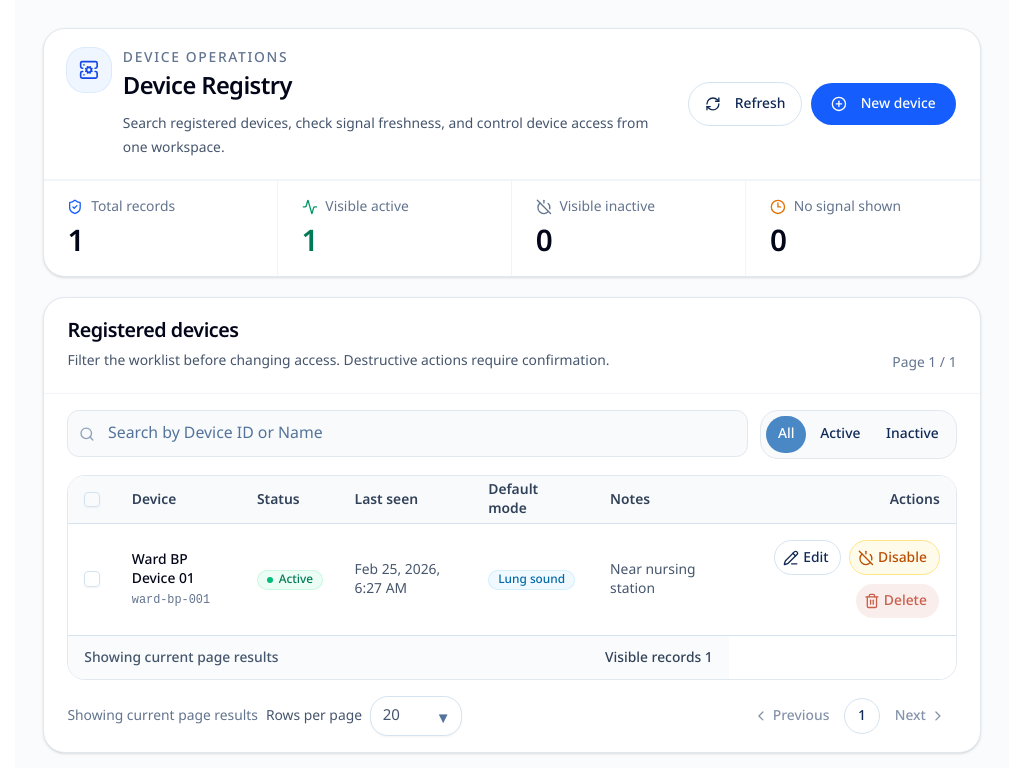
Test case: Device registry flow › removes the row immediately after clicking delete
This screenshot has width=1024, height=768.
Expected: the text "Ward BP Device 01" is shown, [132,549,195,590]
What coordinates should you click on to do the following:
click the button with aria-label "delete ward bp device 01"
I would click on:
 (897, 601)
Its box is [855,583,940,619].
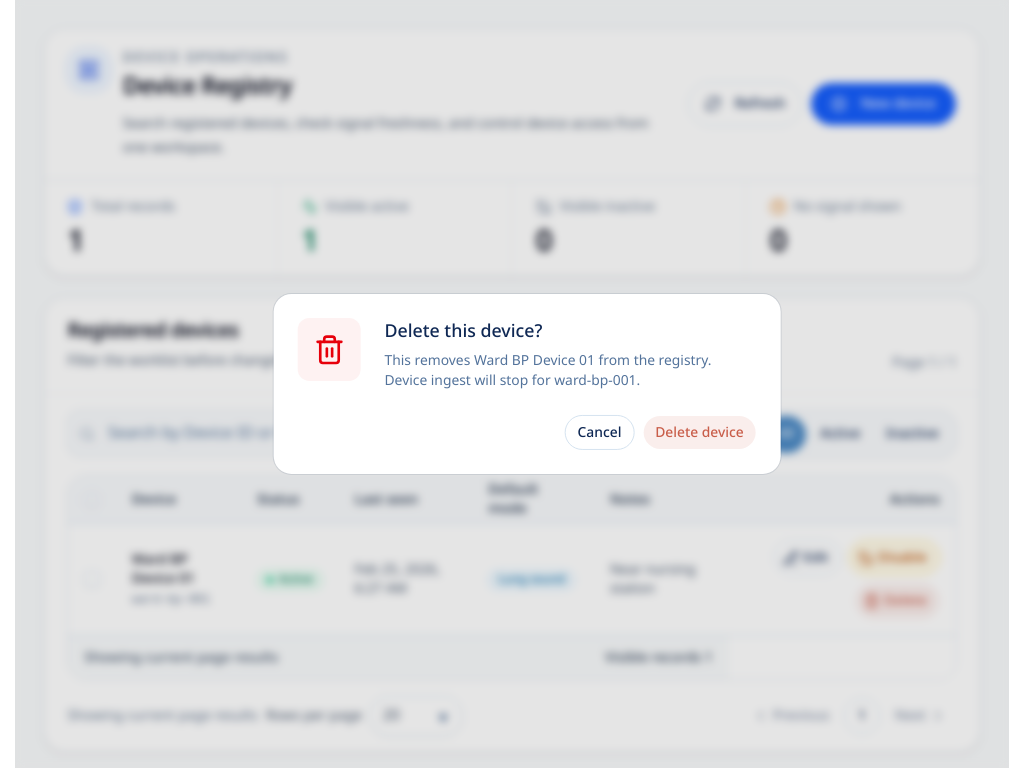
What coordinates should you click on to do the following:
click the button "Delete device"
I would click on:
 (699, 432)
Its box is [642,415,757,450].
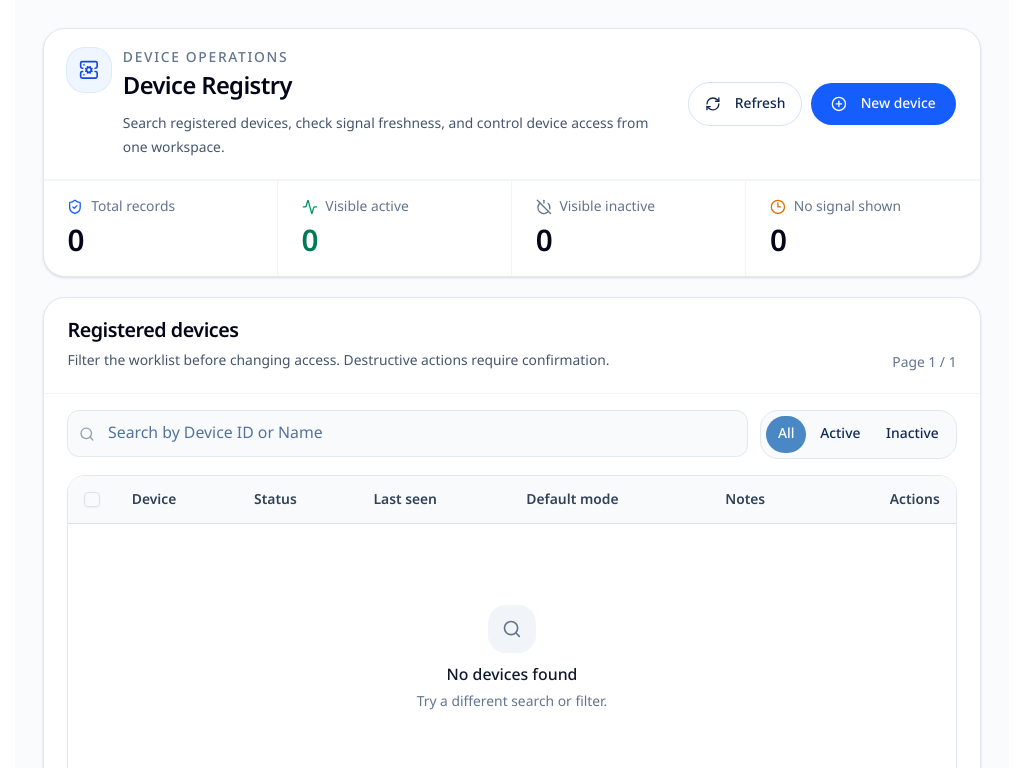
Expected: the text "Ward BP Device 01" is gone
